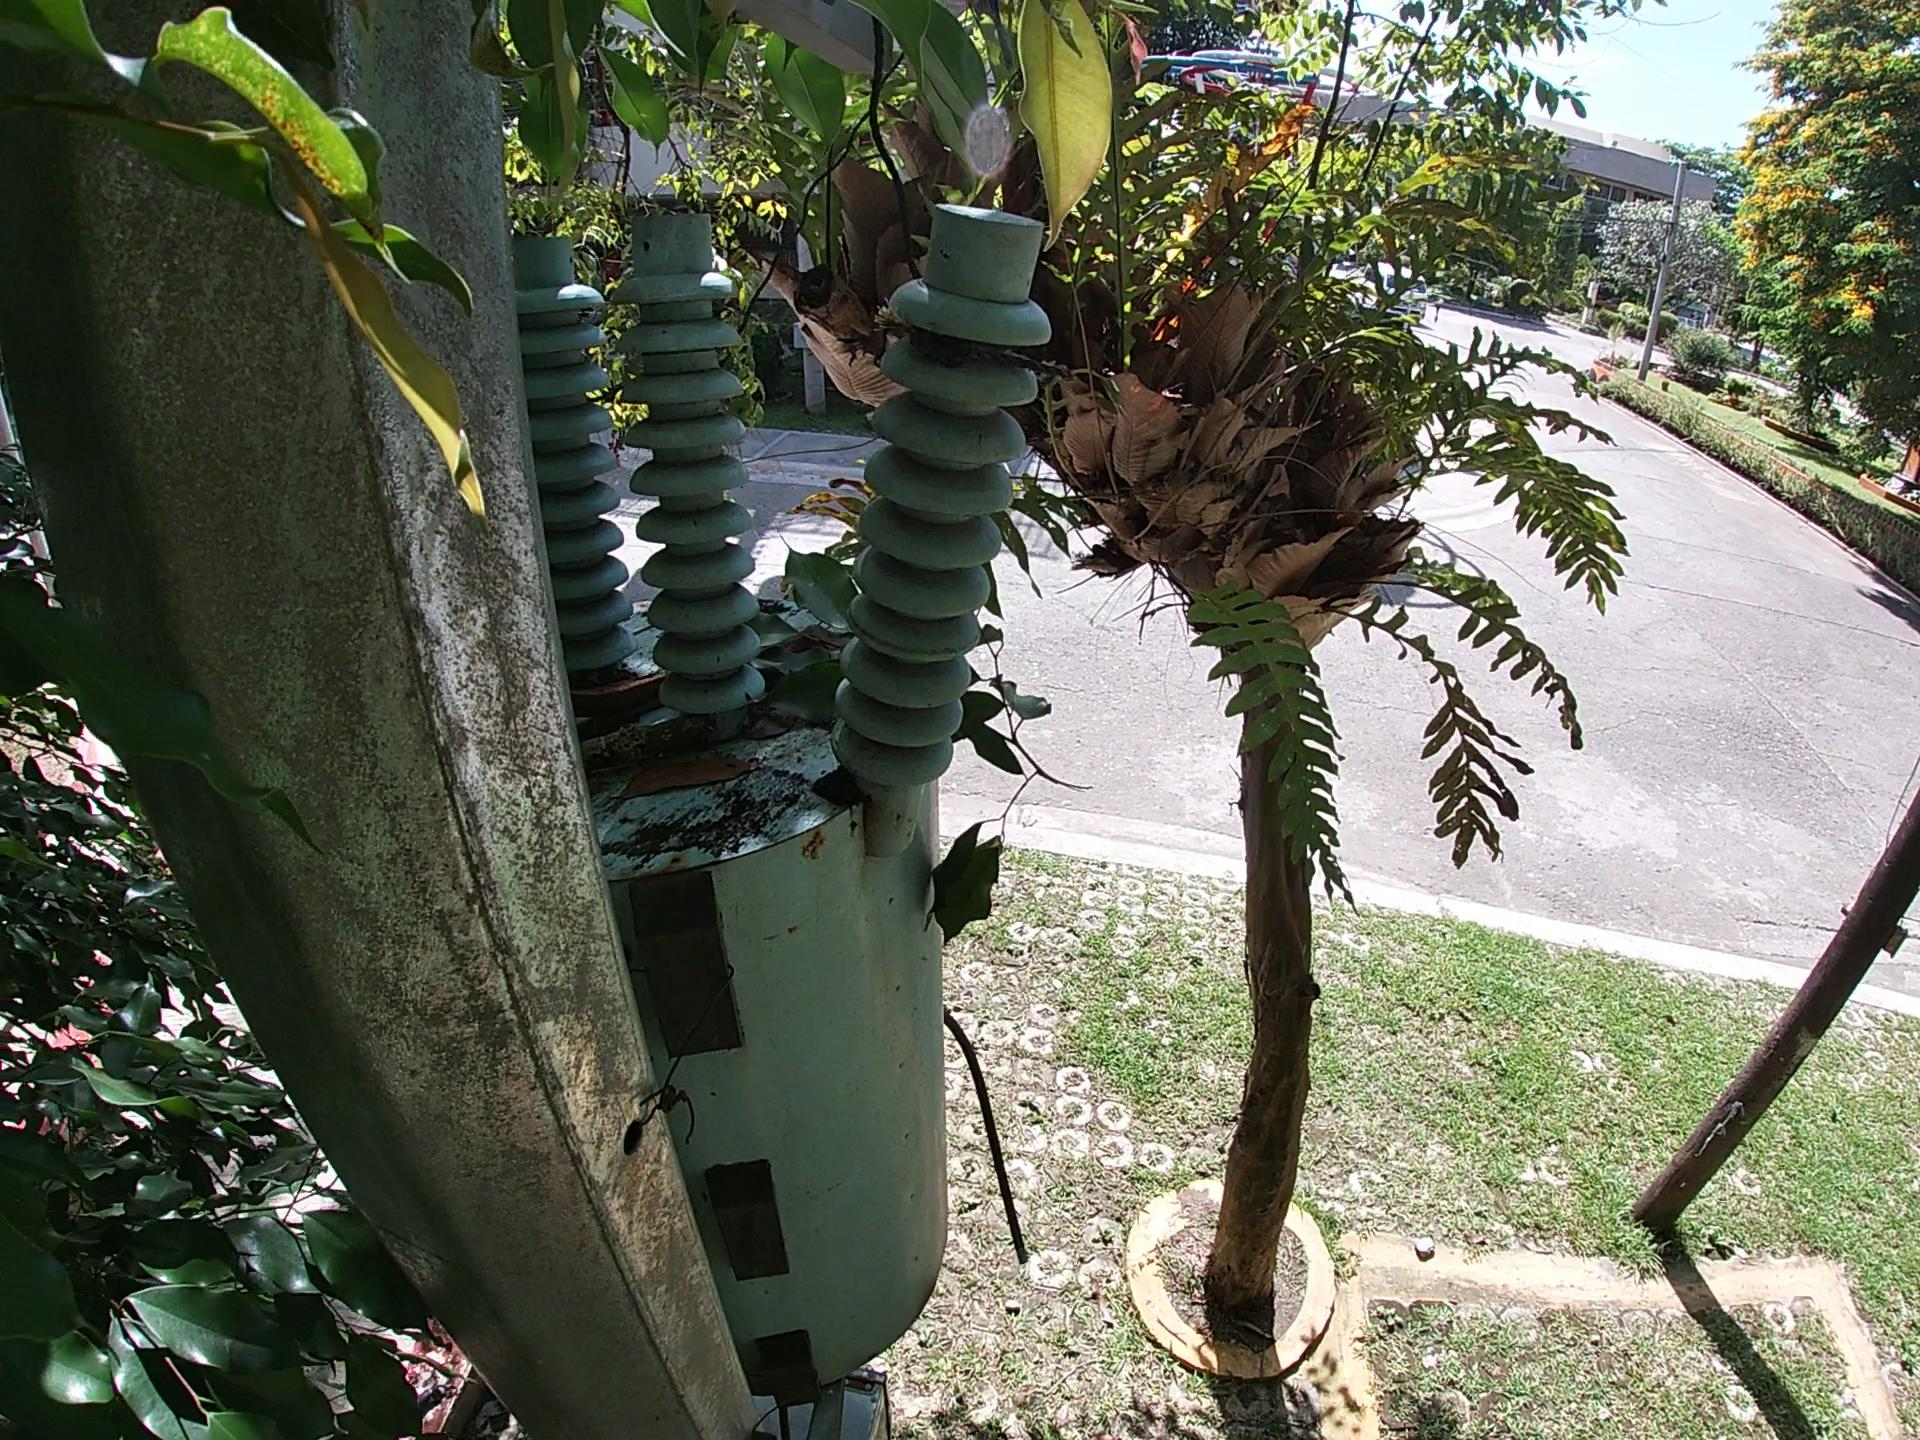branch with leaves: (930, 564, 1085, 1048)
leaf: (756, 513, 859, 728), (608, 755, 777, 803)
mahogany fruit: (558, 658, 671, 708)
tree branch: (571, 712, 723, 750)
